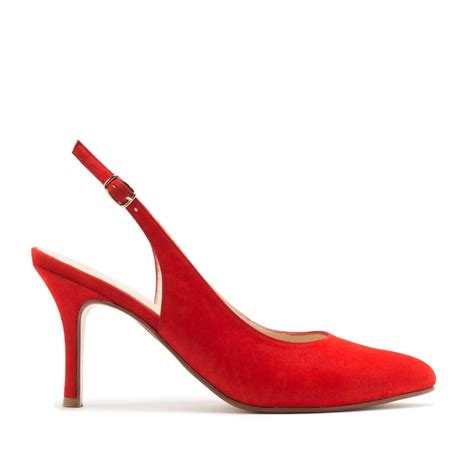gamuza: (159, 213, 437, 413)
